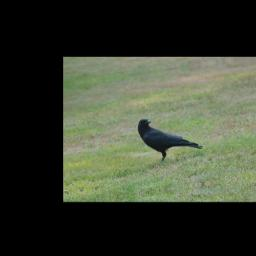Crow: (136, 109, 205, 165)
